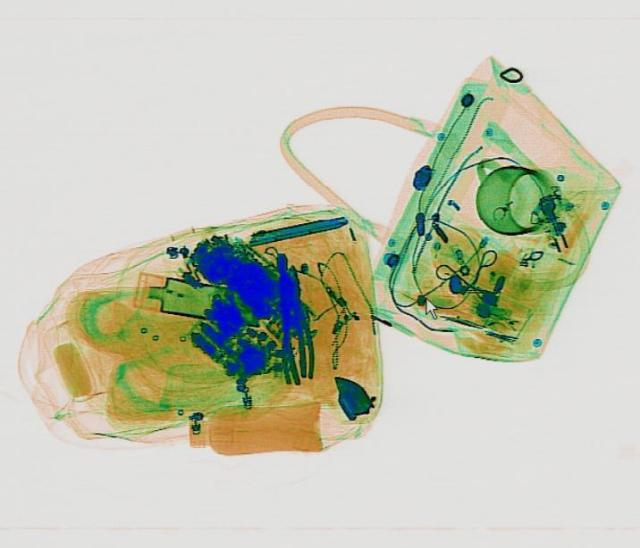Pliers: (270, 267, 312, 383)
